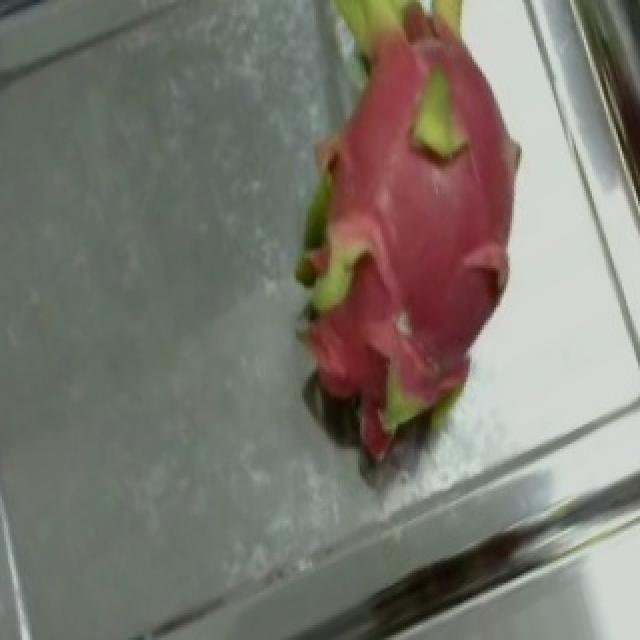fruit: (170, 0, 602, 432)
